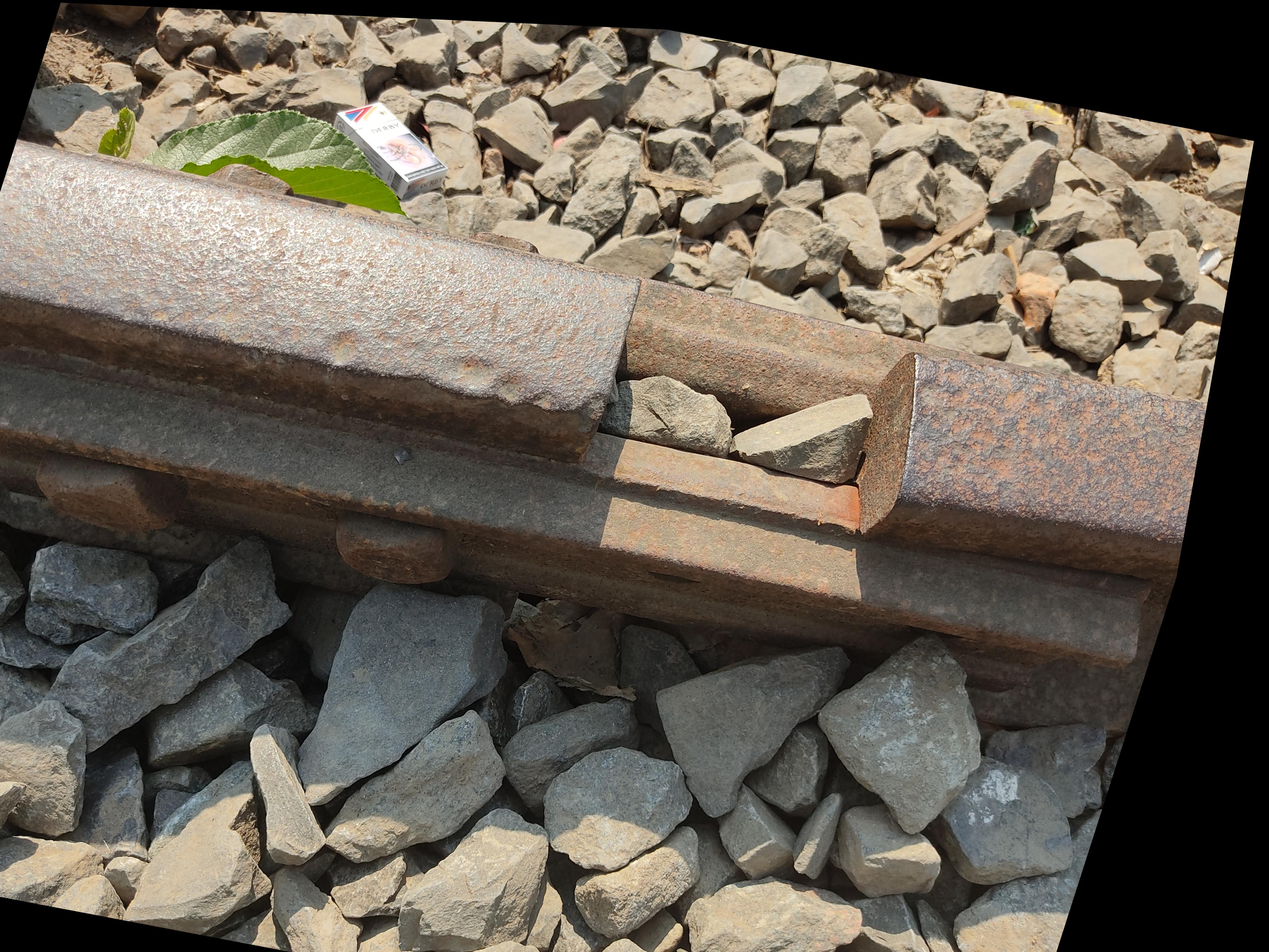person: (589, 106, 1113, 546)
